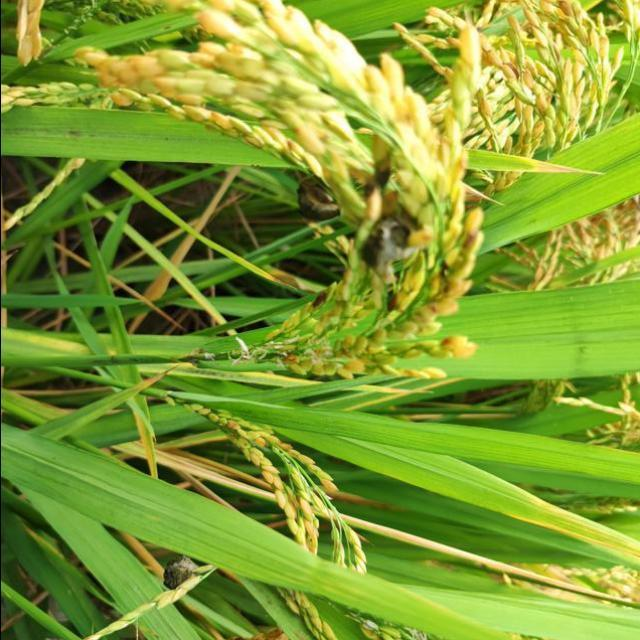Leaf_Scald: (362, 219, 414, 279), (296, 177, 340, 224), (162, 555, 198, 592)
